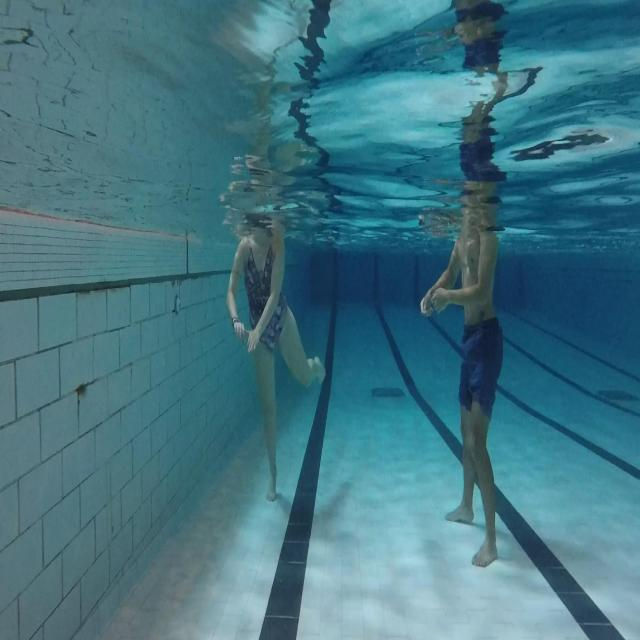human: (419, 85, 508, 568), (226, 209, 326, 502)
